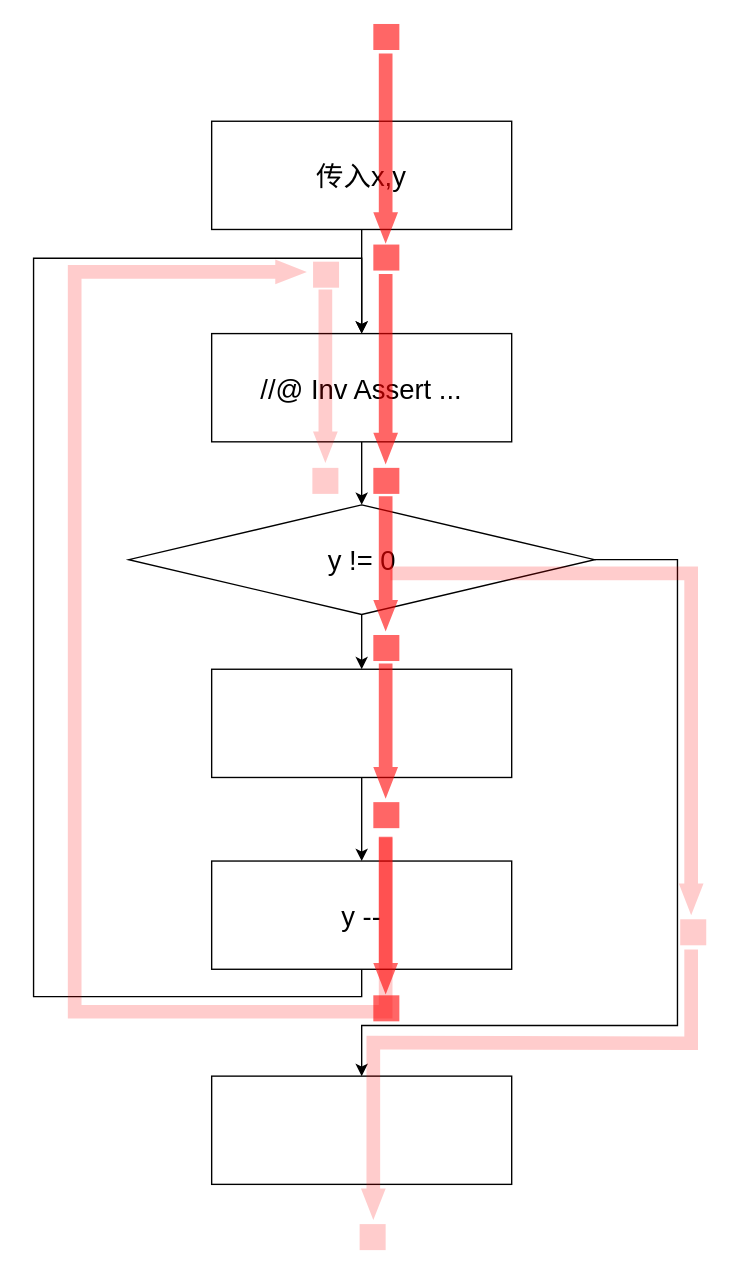
Some shapes in this 730 by 1273 pixel diagram are drawn without their labels. The shapes that lost their labels are listed below. From the top down, each one's centre as x and y in pixels, then its label:
(361,722): x --
(361,1129): return x
